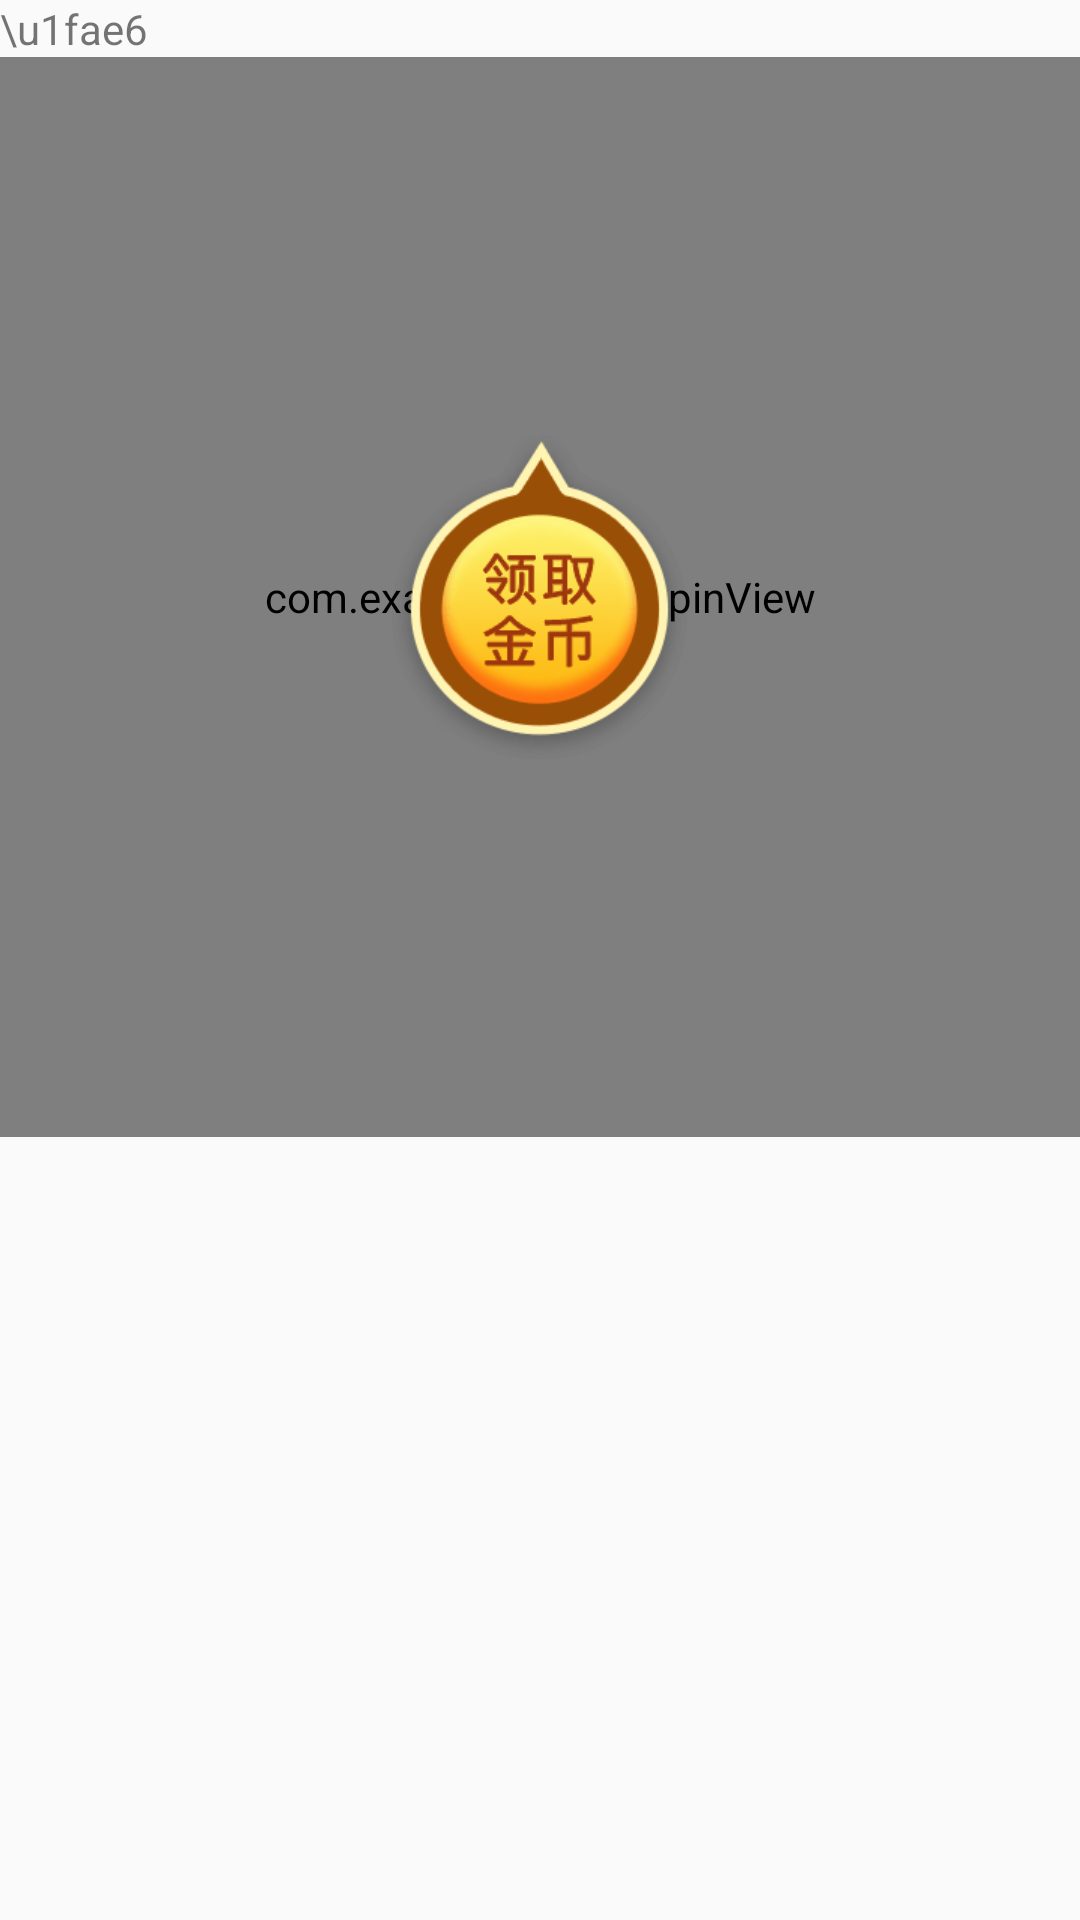

Icons on this 1080 × 1920 Android screen, each with its box as (x1, y1, x2, y2):
wheel center: (387, 442, 690, 735)
